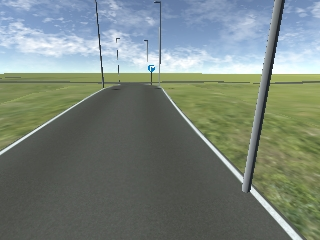right: (147, 65, 156, 74)
